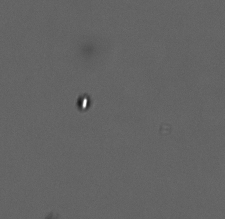Living Cell: (76, 91, 93, 112)
